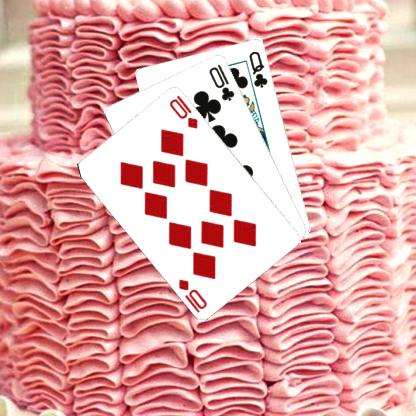10C: (208, 61, 238, 102)
10D: (168, 92, 201, 130), (178, 276, 210, 314)
QC: (248, 48, 271, 89)
